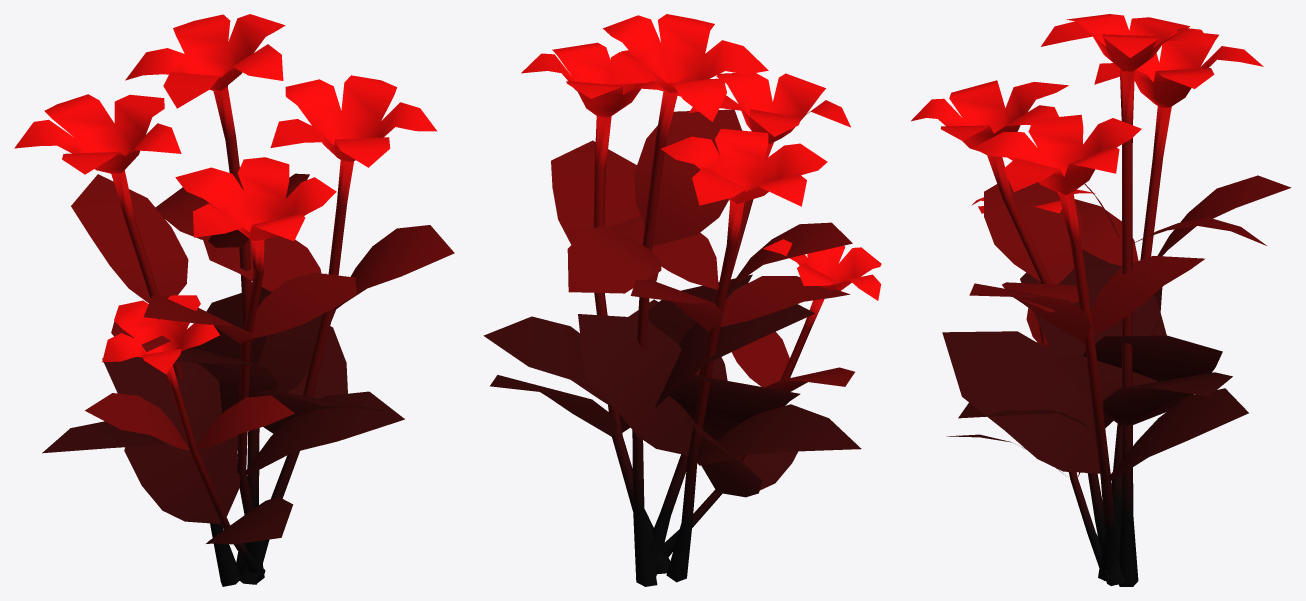
The model's file is flower_d1.fbx.
3 renders of one model, left to right at view 1: azimuth 30°, elevation 25°; view 2: azimuth 150°, elevation 25°; view 3: azimuth 270°, elevation 25°, orthographic.
Visible parts, largest first — view 1: geo_flower_d1_LOD0; view 2: geo_flower_d1_LOD0; view 3: geo_flower_d1_LOD0.
Part boxes in pixels (left/top/right/bottom): geo_flower_d1_LOD0: left=14, top=14, right=454, bottom=586; geo_flower_d1_LOD0: left=483, top=14, right=881, bottom=586; geo_flower_d1_LOD0: left=911, top=14, right=1291, bottom=586.
Size of what is drawn, in the model's own units: 0.3769 by 0.5677 by 0.3537.
